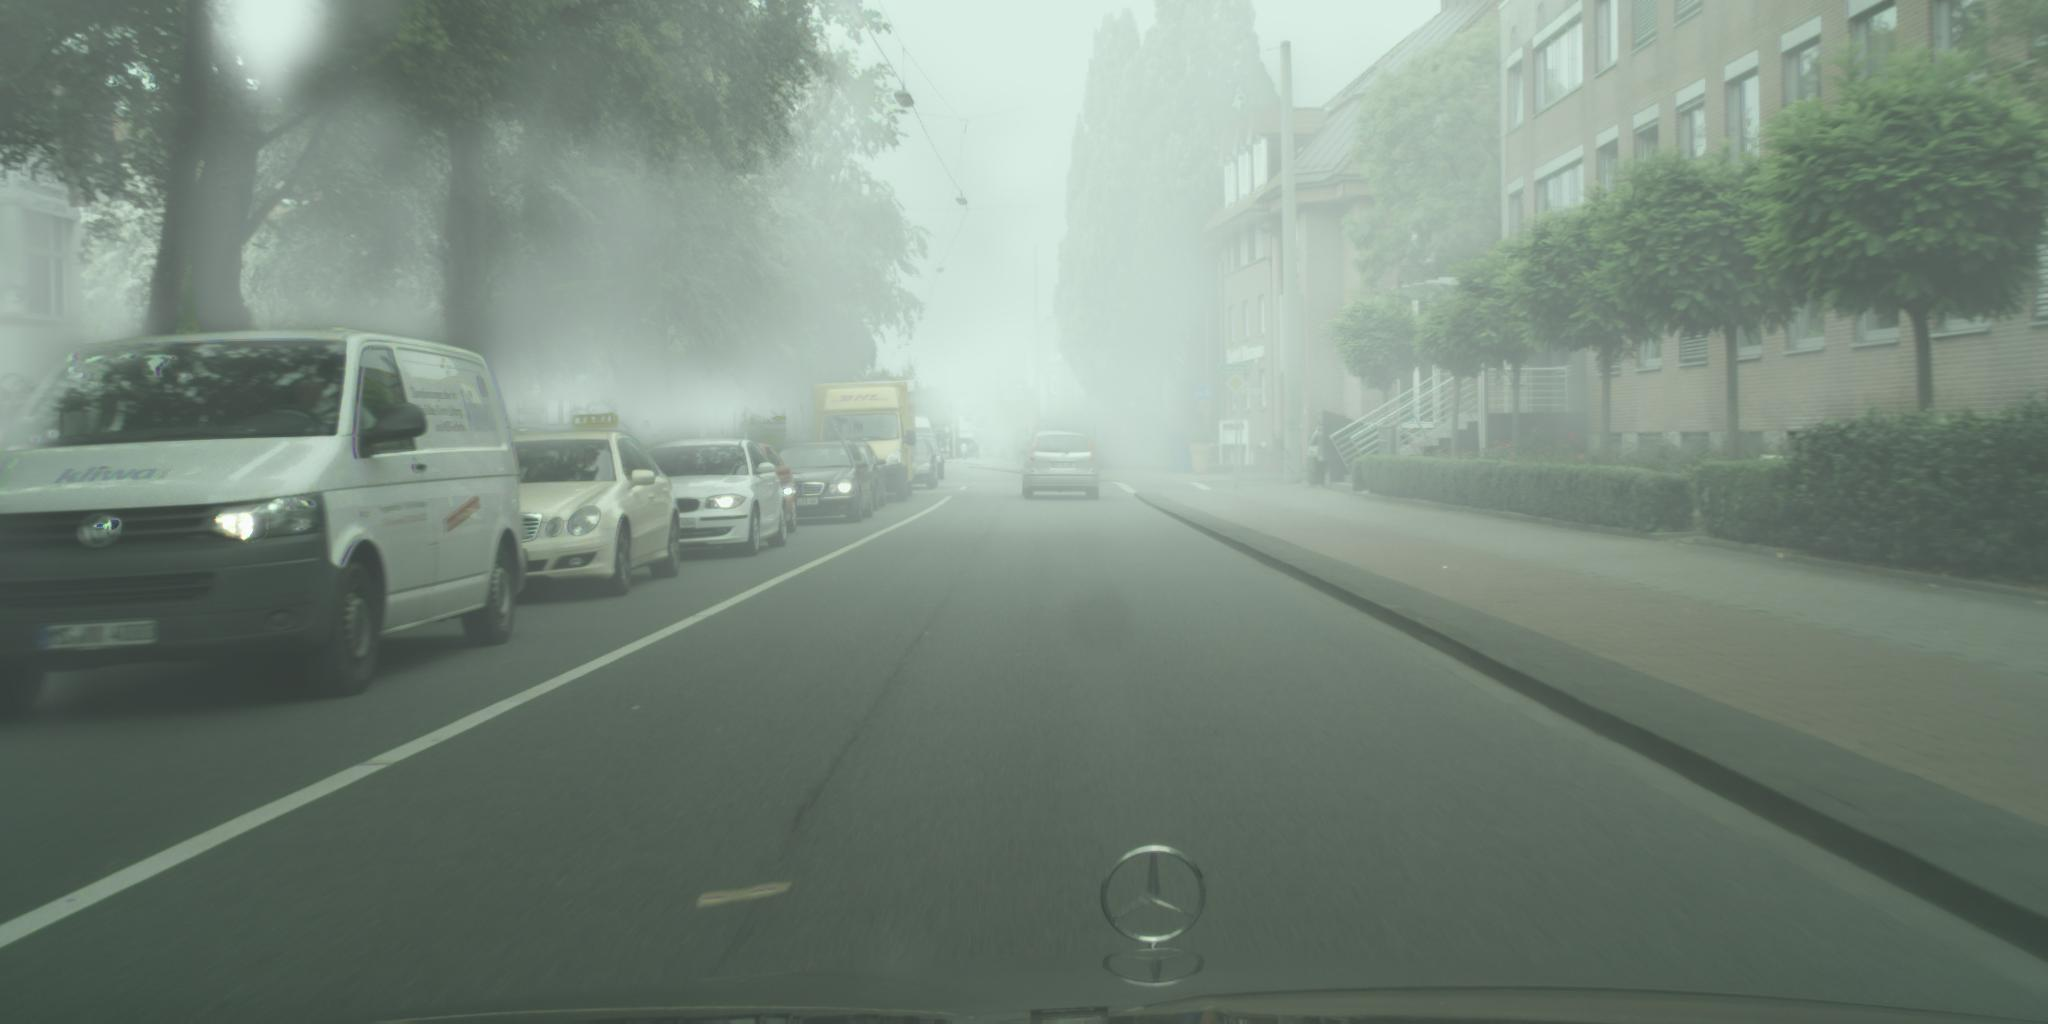car: (1, 329, 526, 721), (490, 415, 682, 597), (644, 438, 788, 556), (776, 440, 875, 524), (1307, 424, 1439, 478), (1017, 431, 1106, 500), (754, 441, 799, 536), (835, 443, 888, 512), (901, 432, 946, 485), (899, 438, 940, 490), (904, 415, 933, 445)
truck: (812, 383, 916, 503)
